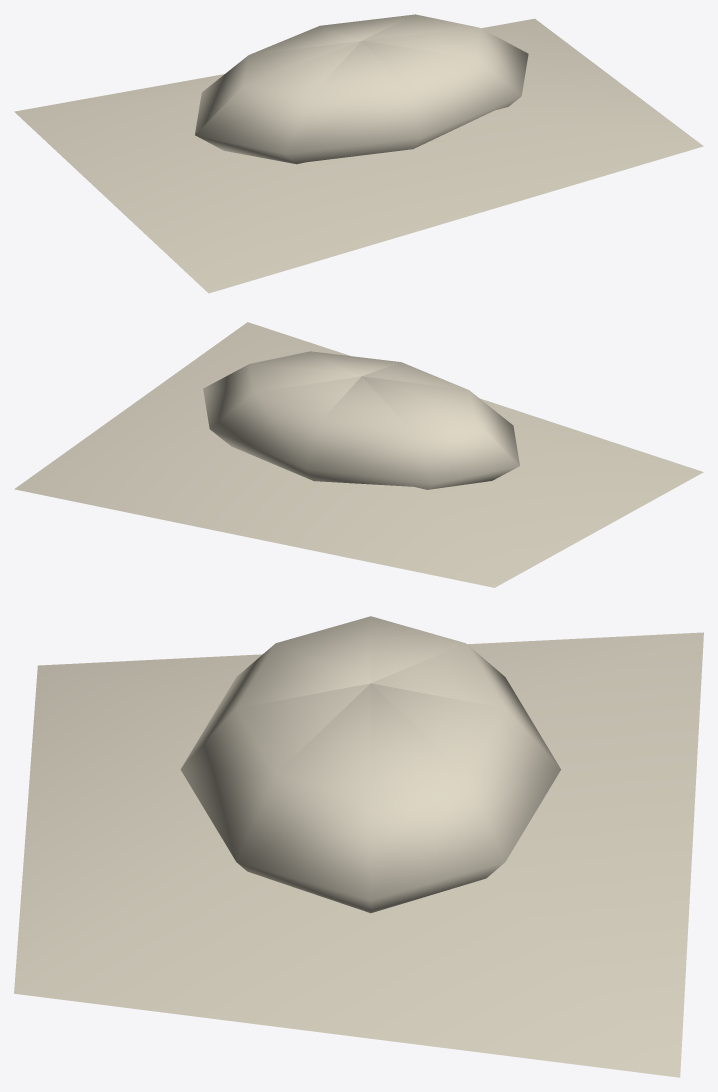
File: CP07-3-tissue.glb
3 views of the same model, one above another, from view 1: azimuth 30°, elevation 25°; view 2: azimuth 150°, elevation 25°; view 3: azimuth 270°, elevation 25° (orthographic). The views are drawn at different scales.
Parts seen in each view (by area): view 1: CP07-3-tissue; view 2: CP07-3-tissue; view 3: CP07-3-tissue.
Part boxes in pixels (x1,y1,x2,y2): CP07-3-tissue: [14, 14, 703, 293]; CP07-3-tissue: [14, 322, 703, 587]; CP07-3-tissue: [14, 616, 703, 1077].
Size of the model in its own units: 0.41 by 0.085 by 0.29.
